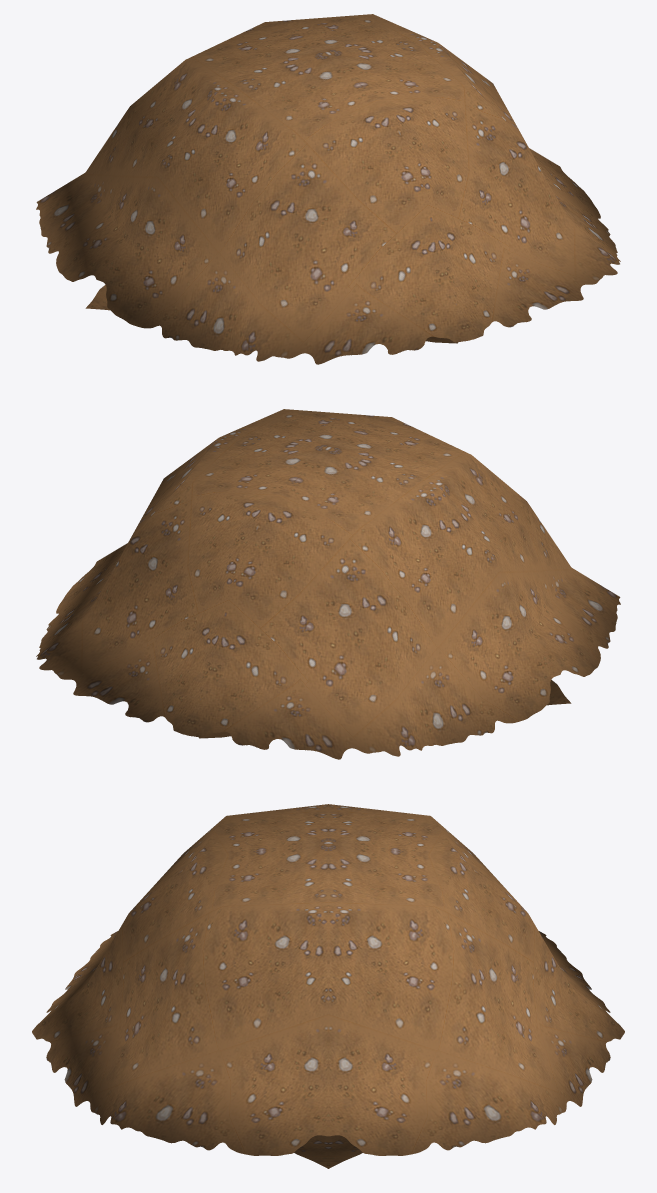
File: Ingame_3d_003.fbx
The picture shows the model from 3 angles, top to bottom: view 1: azimuth 30°, elevation 25°; view 2: azimuth 150°, elevation 25°; view 3: azimuth 270°, elevation 25°; orthographic projection. The views are drawn at different scales.
Parts seen in each view (by area): view 1: Cube; view 2: Cube; view 3: Cube.
Boxes of the visible parts, x1,y1,x2,y2 form: Cube: (36, 14, 620, 364); Cube: (36, 409, 620, 759); Cube: (32, 804, 624, 1168).
Size of the model in its own units: 200 by 71.34 by 200.
